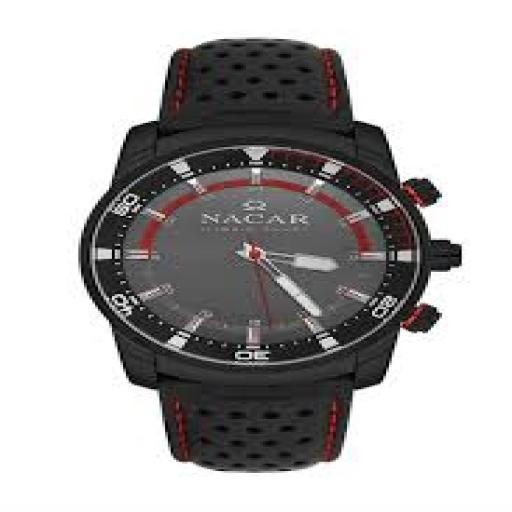KolSaati: (56, 24, 449, 468)
